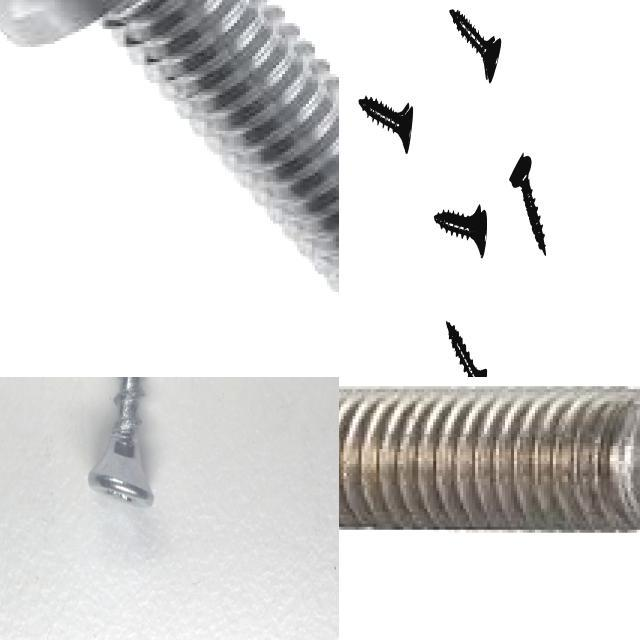Screw: (0, 0, 339, 300), (339, 386, 640, 533), (88, 377, 154, 507), (510, 151, 547, 255), (450, 6, 501, 81), (359, 94, 413, 151), (435, 204, 487, 256), (447, 321, 488, 377)
